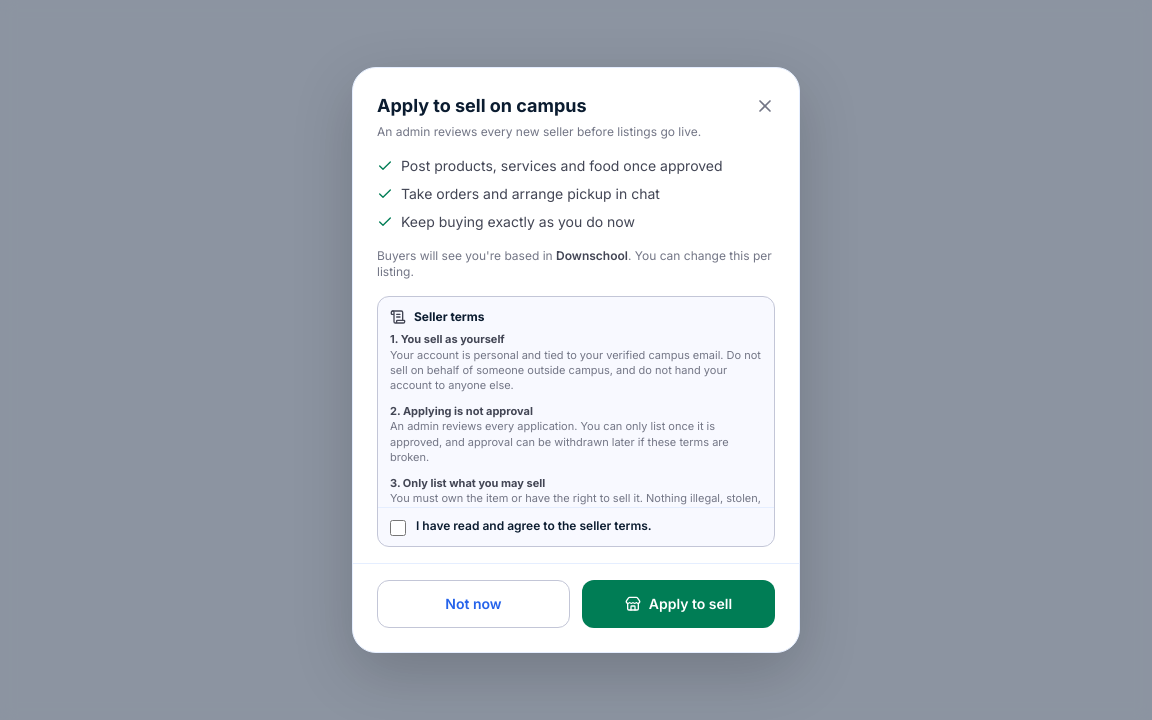
Test case: BecomeSellerModal seller terms › refuses to apply until the terms are accepted, and says why
Click the button "Apply to sell": (678, 604) [582,580,775,628]
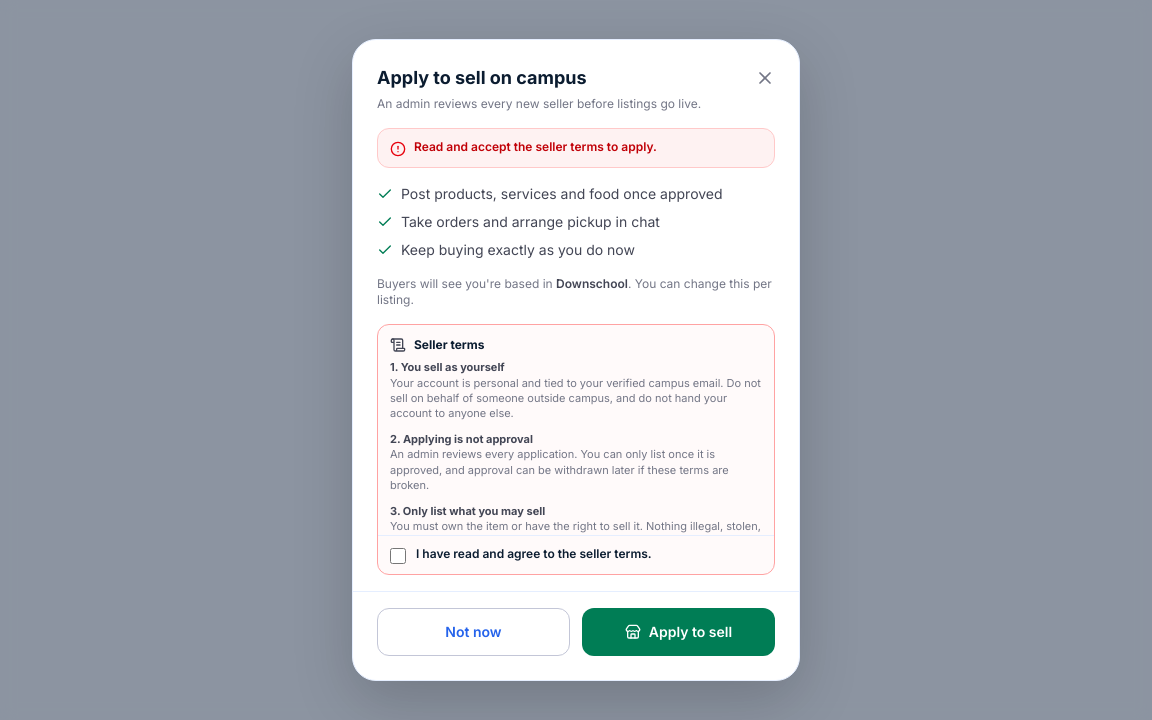
Expected: the text "Read and accept the seller terms to apply." is shown, [414,139,657,155]
